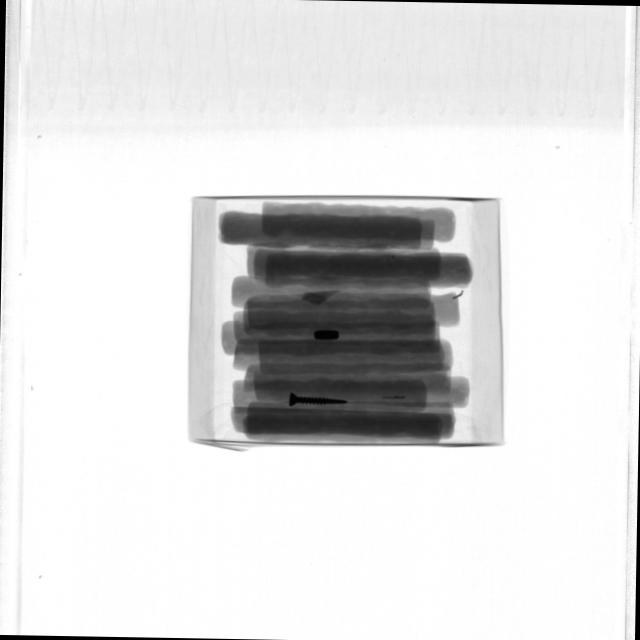ym: (289, 392, 349, 407), (302, 288, 340, 306), (314, 330, 340, 340), (381, 394, 407, 400), (452, 291, 463, 301), (391, 255, 395, 259)
